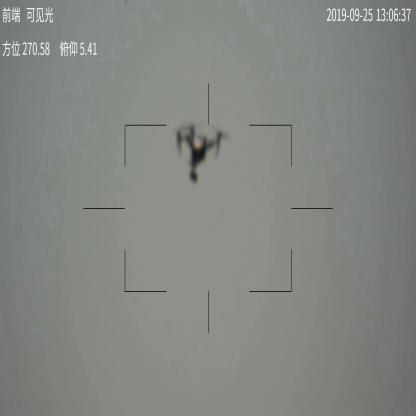uav: (172, 119, 224, 183)
